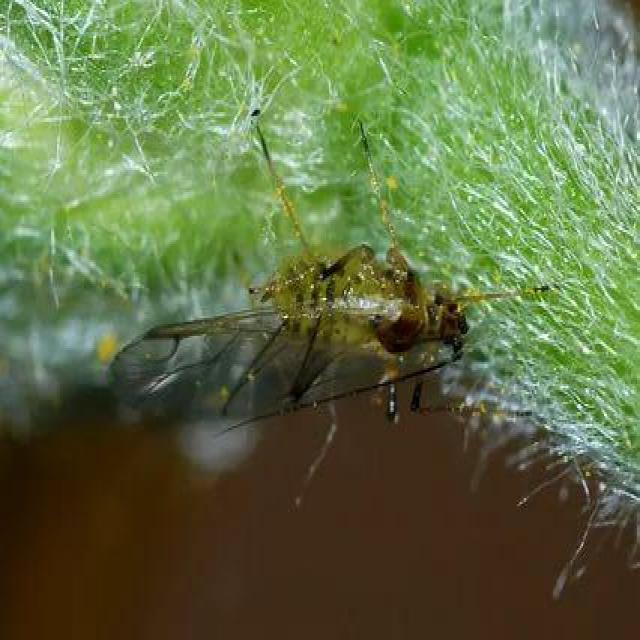aphid: (116, 197, 496, 446)
